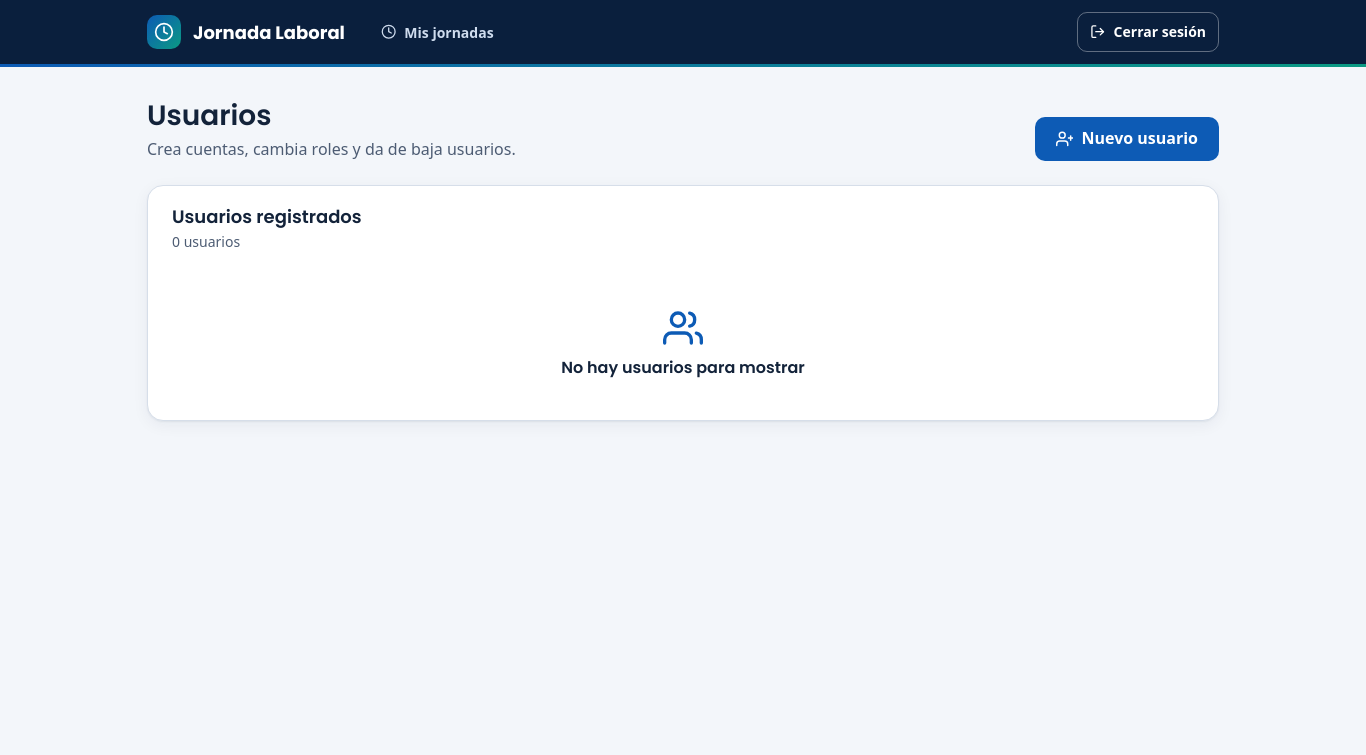
Test: shows the reason when the API refuses to create a user
The width and height of the screenshot is (1366, 755).
Click the button "Nuevo usuario" at coordinates (1127, 139), box [1035,117,1219,161]
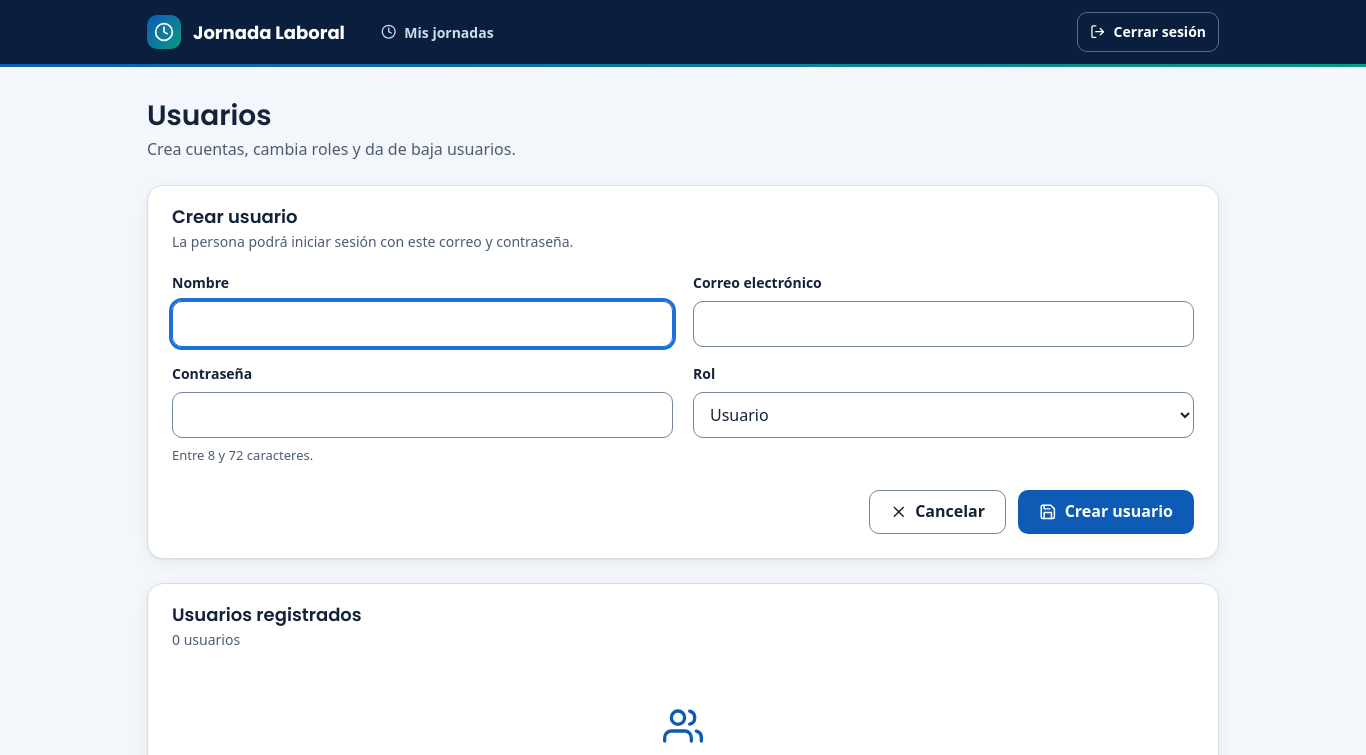
Type "Ana Pérez" into the field labelled "Nombre" at coordinates (422, 324), box [172,301,673,347]
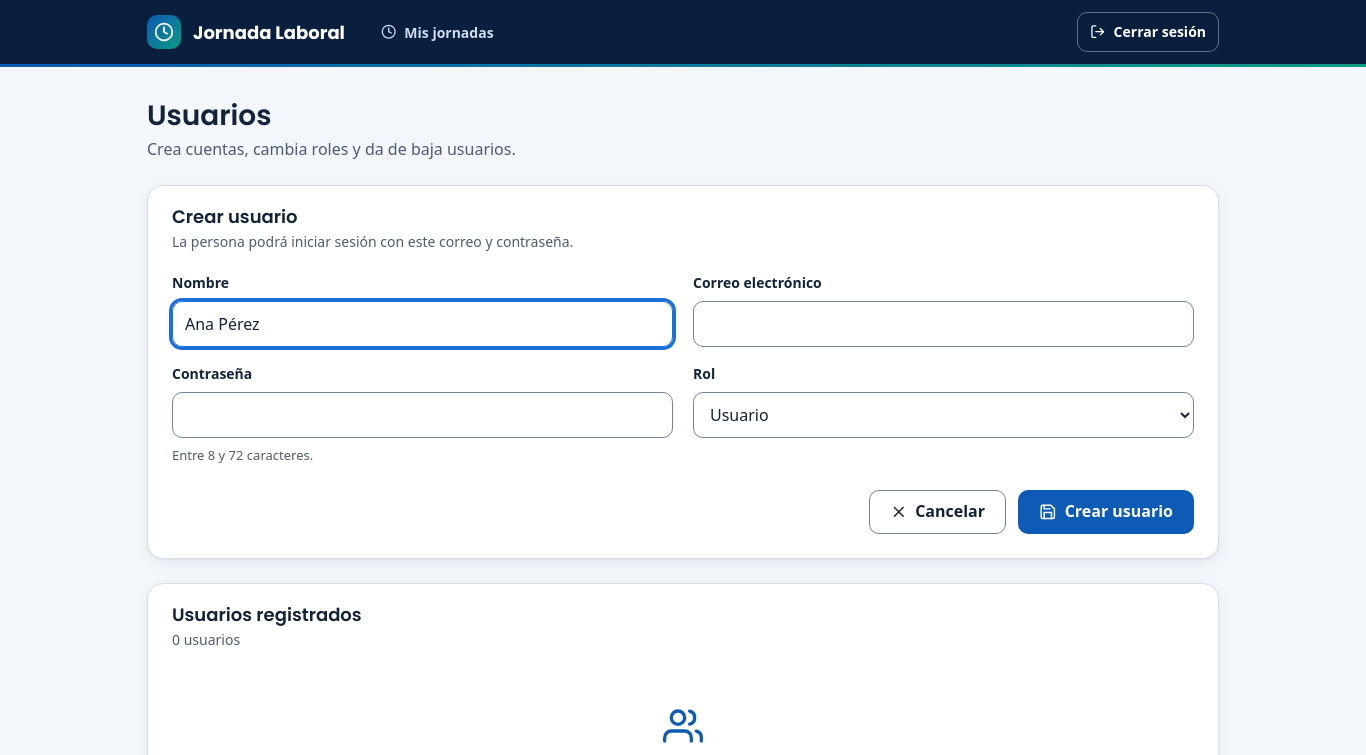
Type "ana@example.com" into the field labelled "Correo electrónico" at coordinates (944, 324), box [693,301,1194,347]
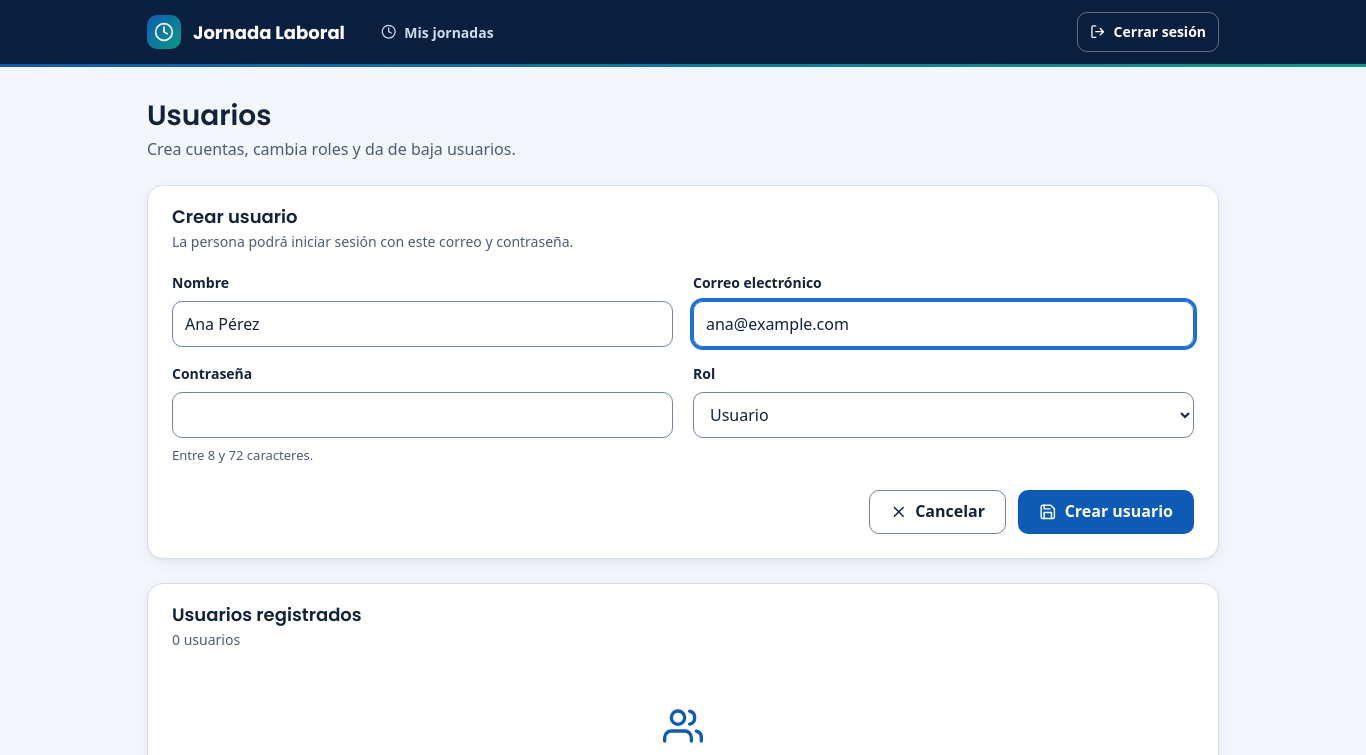
Type "long-enough-1" into the password field labelled "Contraseña" at coordinates (422, 415), box [172,392,673,438]
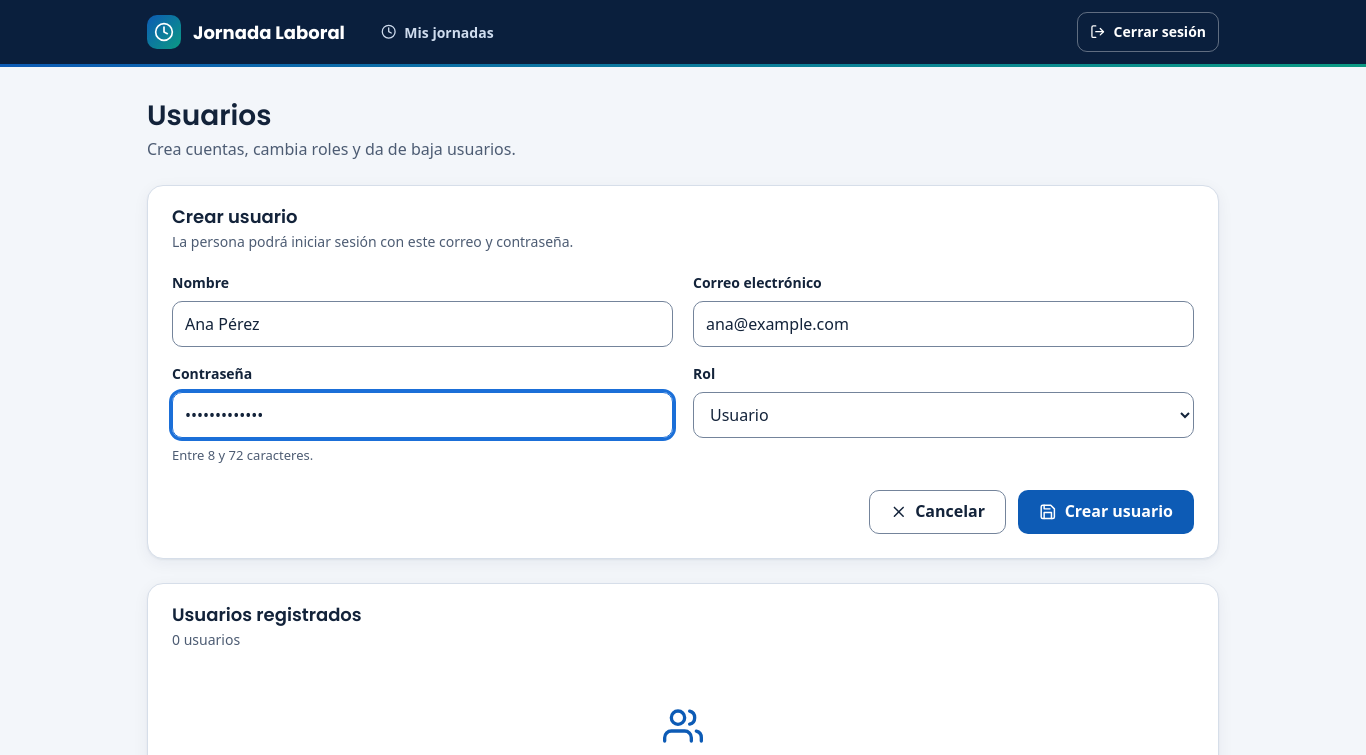
Click the button "Crear usuario" at coordinates (1106, 512), box [1018,490,1194,534]
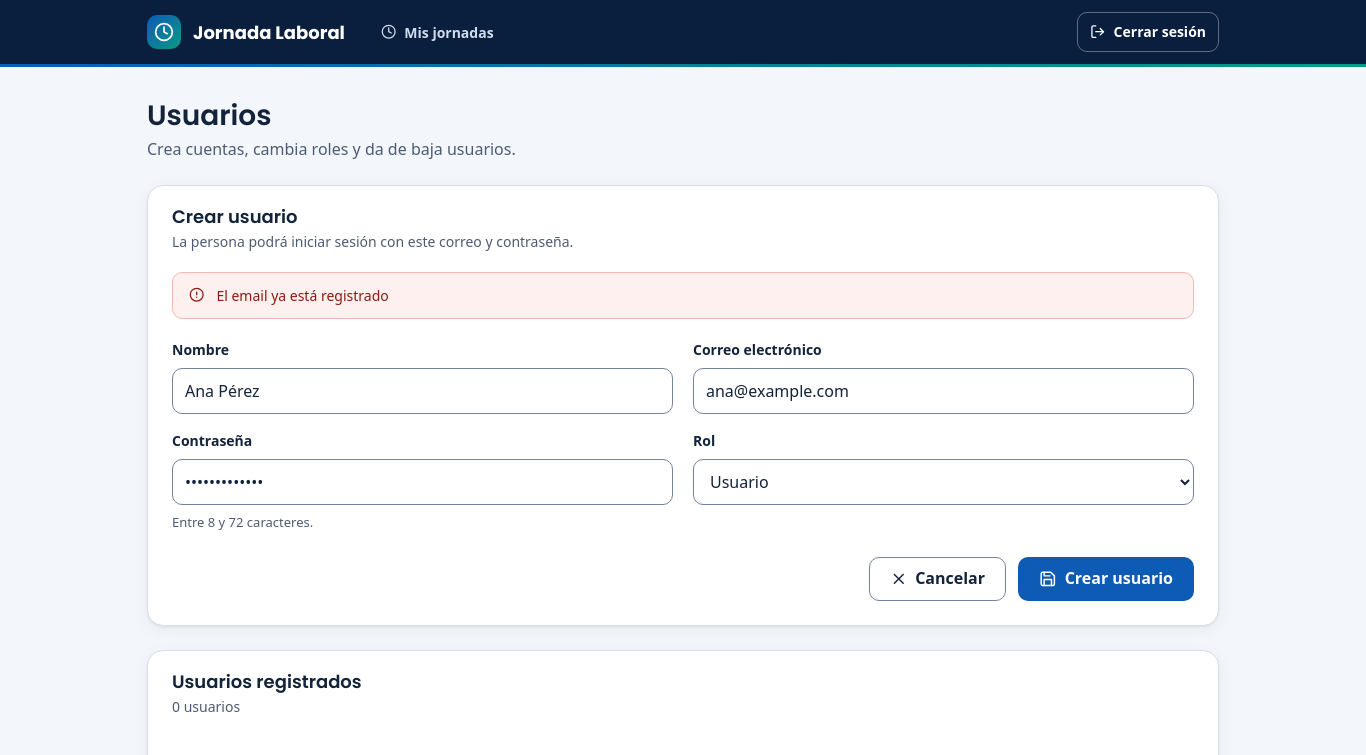
Check: the heading "Crear usuario" is shown, box [172,204,298,229]
Check: the message reads "El email ya está registrado", box [216,286,389,305]
